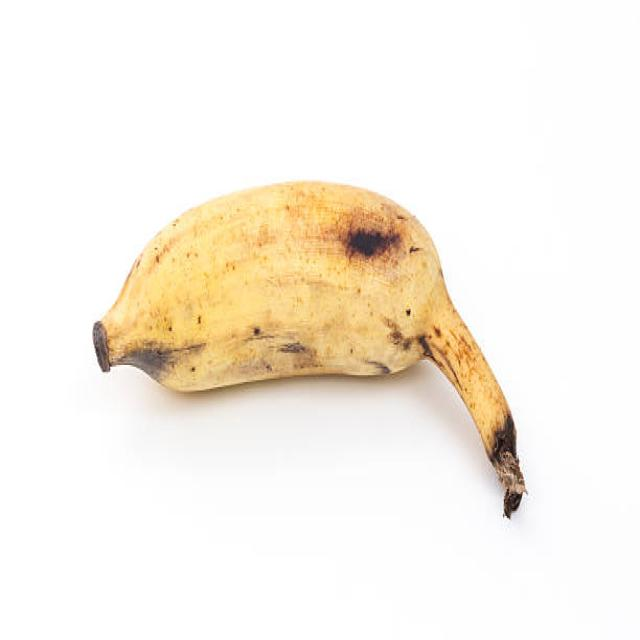overripe: (81, 170, 514, 456)
